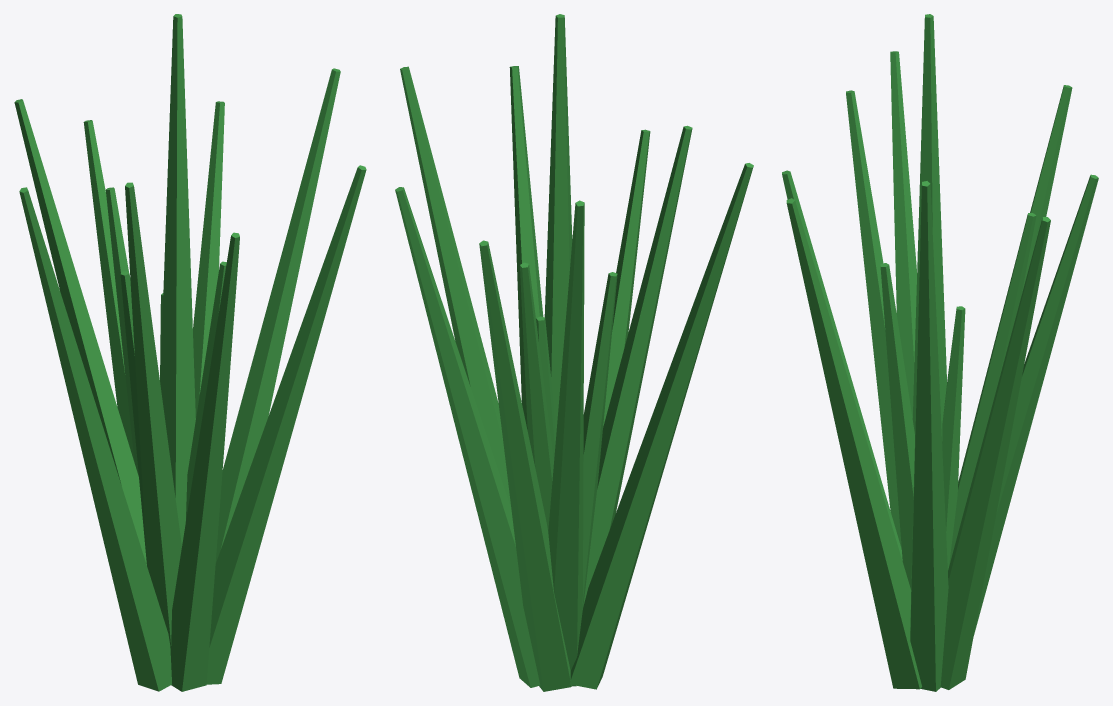
The model's file is grass.glb.
The picture shows the model from 3 angles, left to right: view 1: azimuth 30°, elevation 25°; view 2: azimuth 150°, elevation 25°; view 3: azimuth 270°, elevation 25°; orthographic projection.
Visible parts, largest first — view 1: __exp_grass; view 2: __exp_grass; view 3: __exp_grass.
Part boxes in pixels (x1,y1,x2,y2): __exp_grass: (14,14,366,691); __exp_grass: (395,14,753,691); __exp_grass: (782,14,1098,691).
Size of the model in its own units: 0.4829 by 0.9083 by 0.3951.
